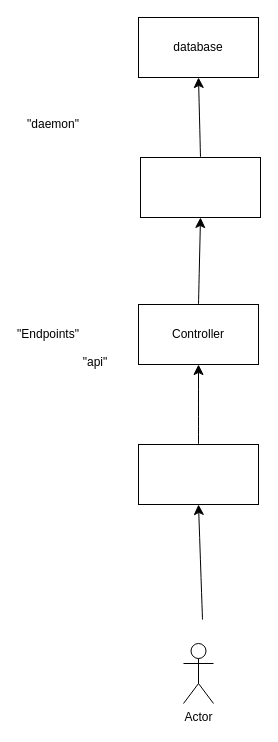
Image size: 278x742. Some labels were removed from this diagram. The shapes that lost their labels are listed below. From the top down, each one's centre as x and y in pixels, then its label:
At [200,187]: "database manager".
At [198,474]: "GUI".
